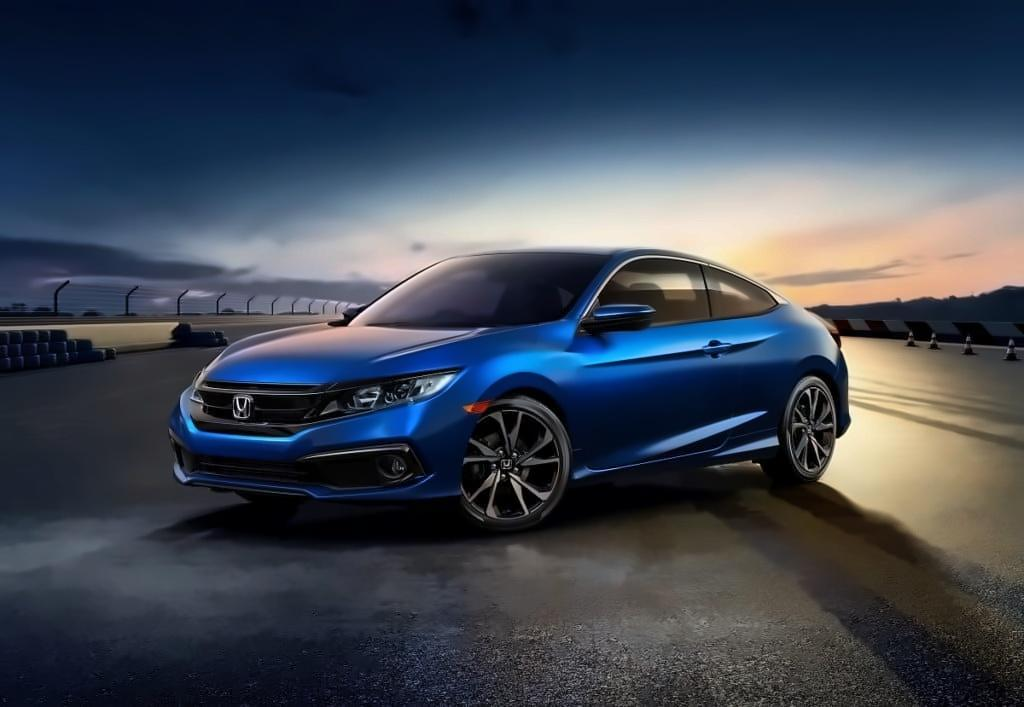Car hood: (199, 319, 543, 386)
Fender - -F-L-: (443, 315, 599, 500)
Fender - -R-L-: (775, 302, 831, 459)
Front bumper: (162, 391, 467, 506)
Headlight - -L-: (303, 362, 469, 425)
Headlight - -R-: (183, 358, 216, 405)
Passenger-s door - -F-L-: (583, 251, 738, 472)
Rear bumper: (831, 348, 865, 442)
Rear light - -L-: (803, 305, 853, 355)
Side bumper - -L-: (570, 426, 787, 484)
Side mirror - -L-: (586, 298, 659, 334)
Side mirror - -R-: (333, 300, 372, 325)
